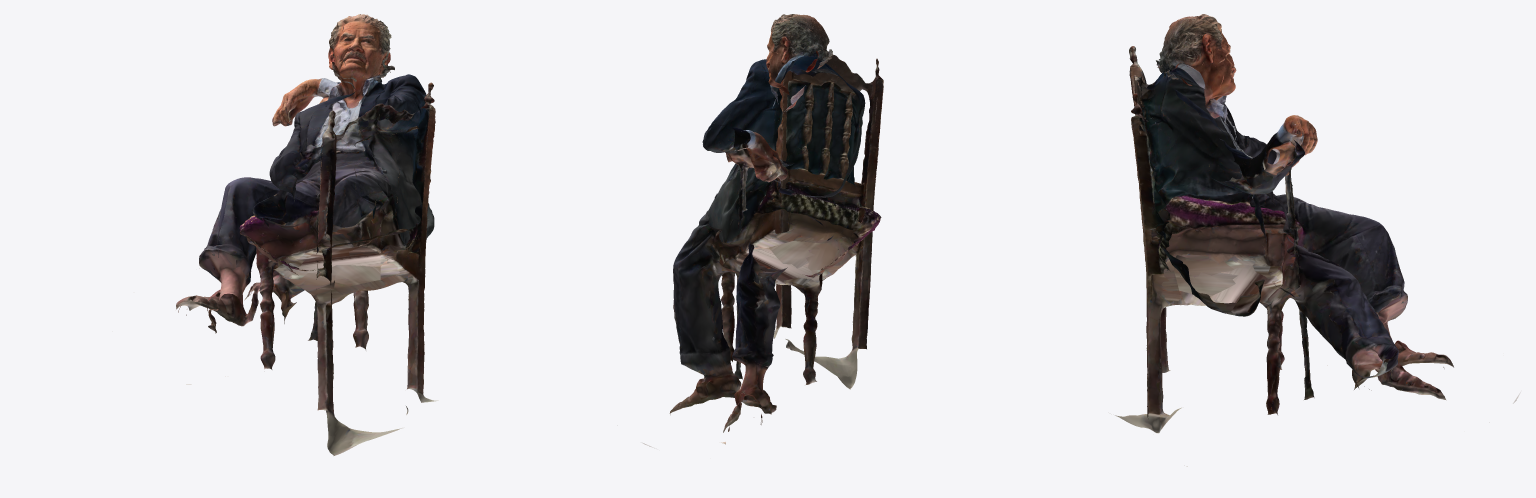
File: compressed_man.glb
3 renders of one model, left to right at view 1: azimuth 30°, elevation 25°; view 2: azimuth 150°, elevation 25°; view 3: azimuth 270°, elevation 25°, orthographic. The views are drawn at different scales.
Bounding box in the file's own units: 1.36 × 1.41 × 1.52.
Materials: 1 (1 with a texture image).
